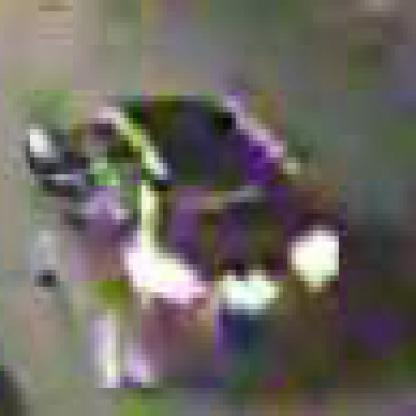car: (27, 86, 340, 395)
